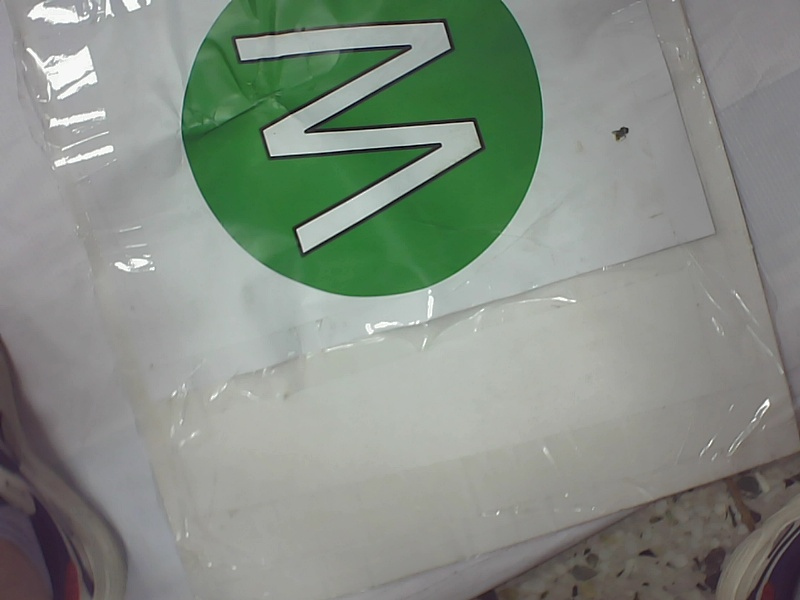areaB: (173, 4, 559, 297)
